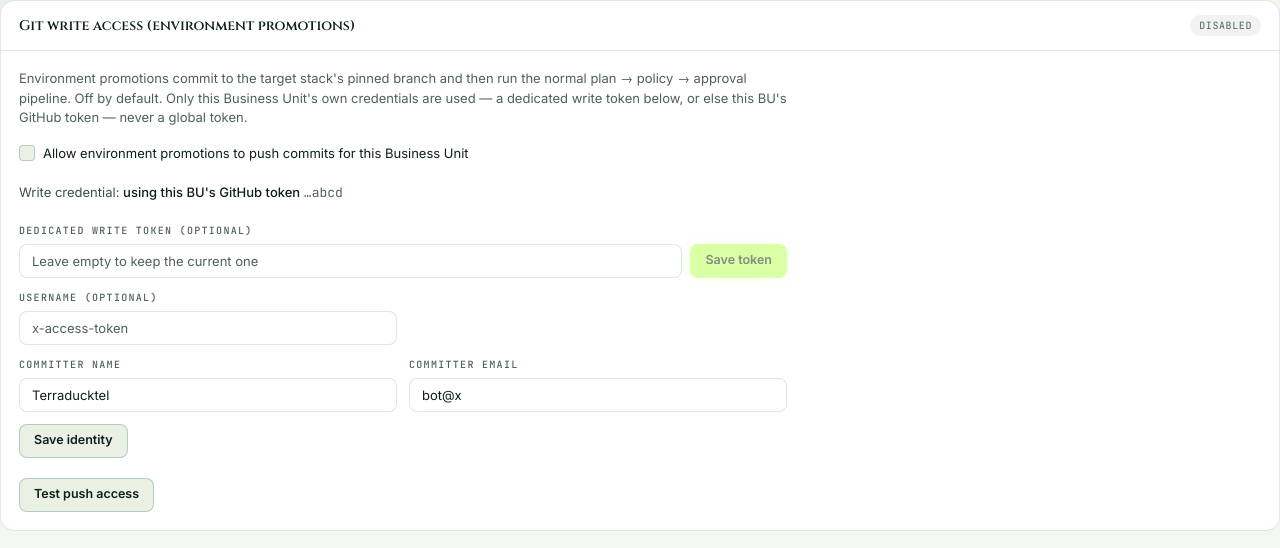
Test: GitWriteSection › saves a dedicated token via PUT
Type "tok-9999" into the password field labelled "Dedicated write token (optional)" at (351, 260), box [19,244,682,278]
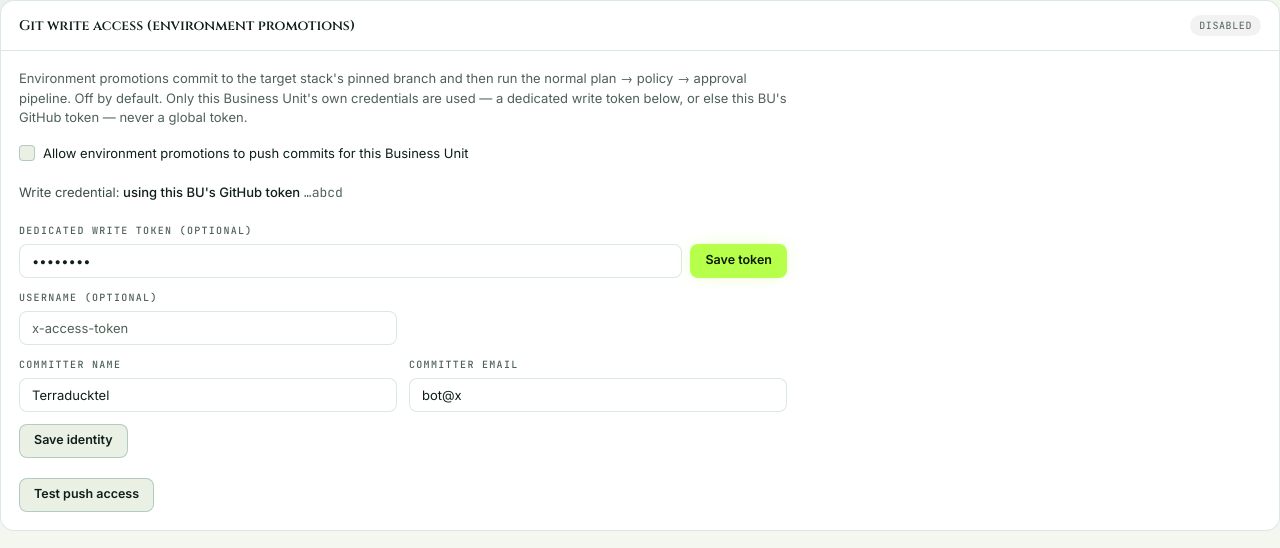
Click the button "Save token" at (739, 260), box [690,244,787,278]
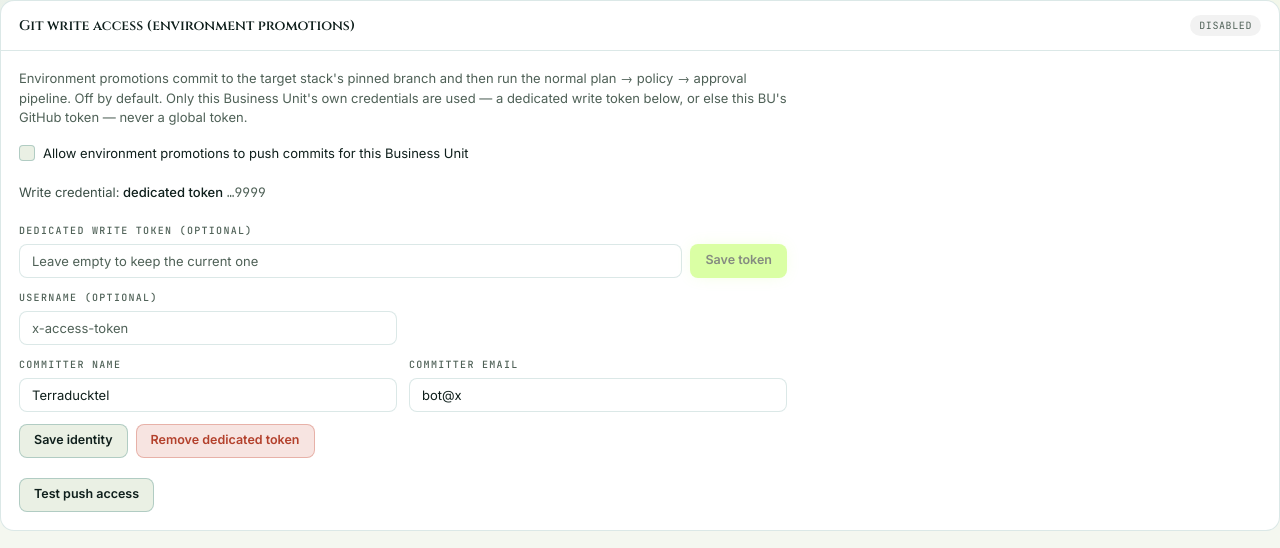
Expected: the text "dedicated token" is shown, [123,184,223,200]
Expected: the password field labelled "Dedicated write token (optional)" is empty, [19,244,682,278]
